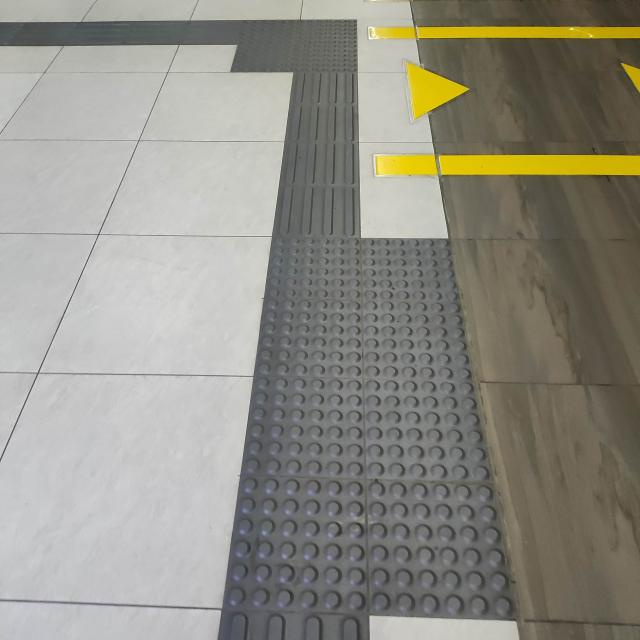kiri: (158, 8, 386, 99)
